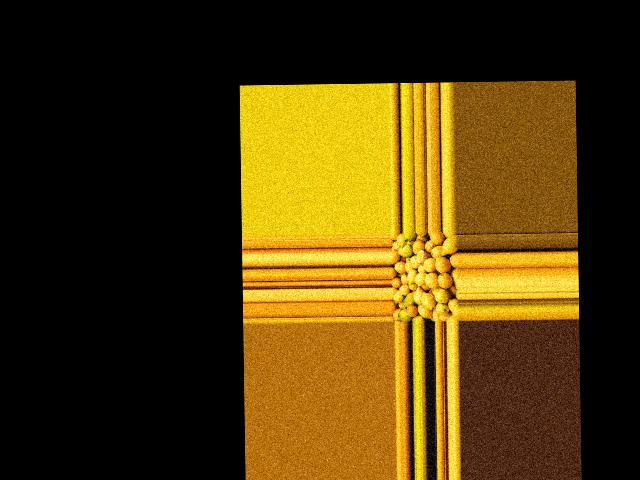lemon: (451, 268, 459, 282)
